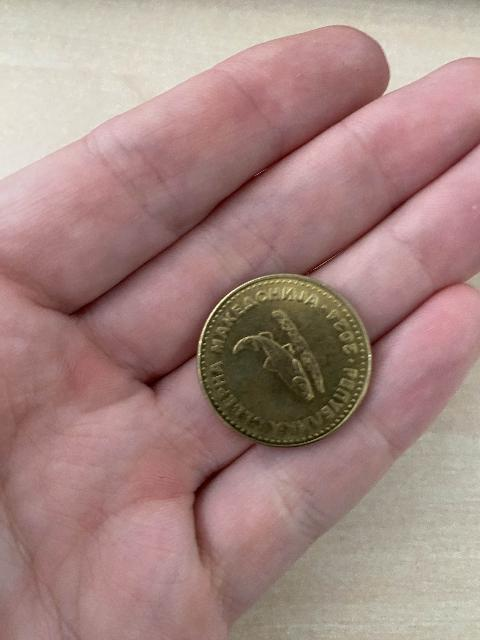2_coin: (198, 274, 371, 446)
